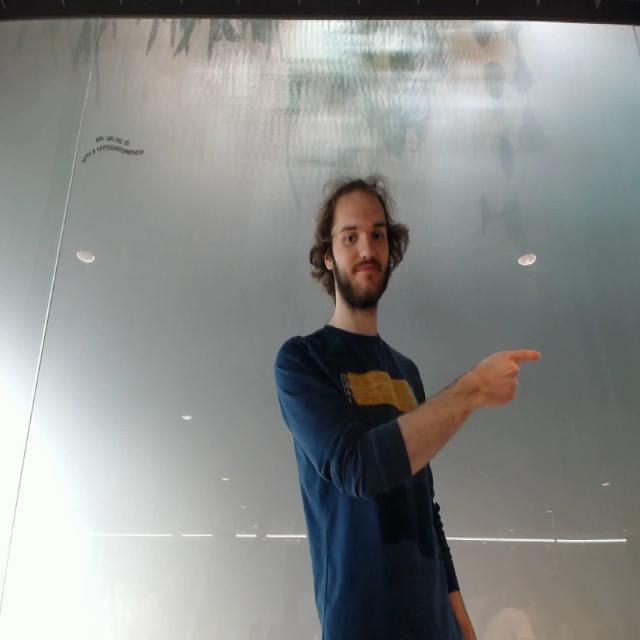right: (467, 336, 544, 414)
